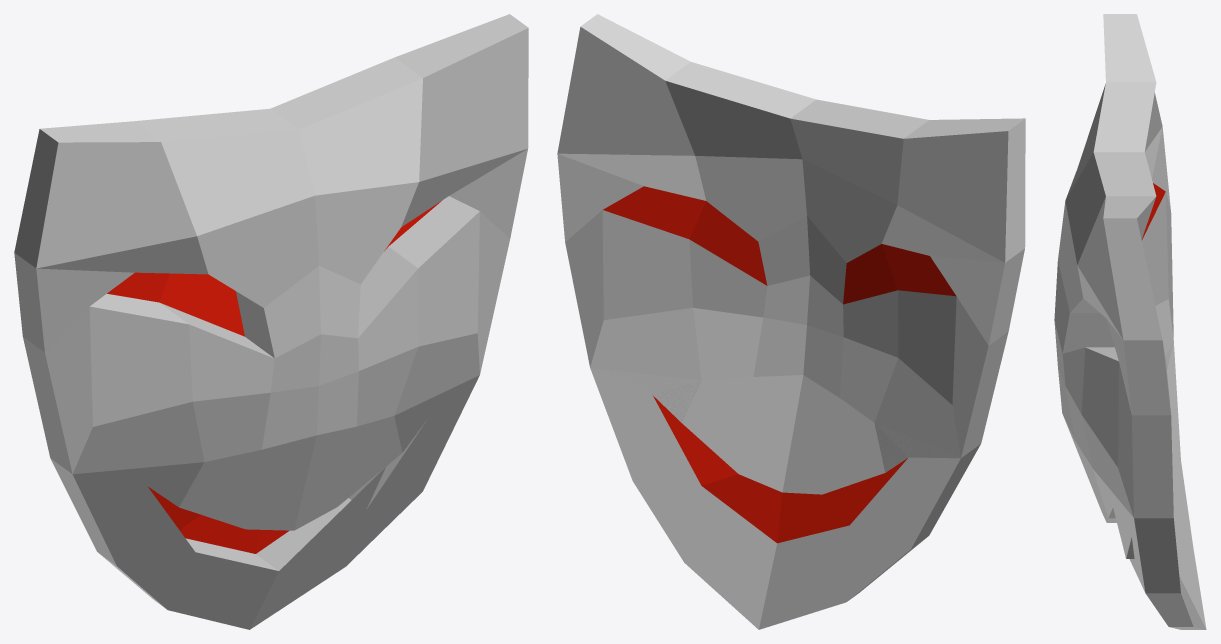
Rendered from Mask.fbx.
3 views of the same model, side by side, from view 1: azimuth 30°, elevation 25°; view 2: azimuth 150°, elevation 25°; view 3: azimuth 270°, elevation 25° (orthographic). The views are drawn at different scales.
Parts seen in each view (by area): view 1: Mask; view 2: Mask; view 3: Mask.
Boxes of the visible parts, left/top/right/bottom form: Mask: left=14, top=14, right=528, bottom=629; Mask: left=557, top=14, right=1025, bottom=629; Mask: left=1054, top=14, right=1206, bottom=629.
Bounding box in the file's own units: 1.17 × 1.31 × 0.3511.
